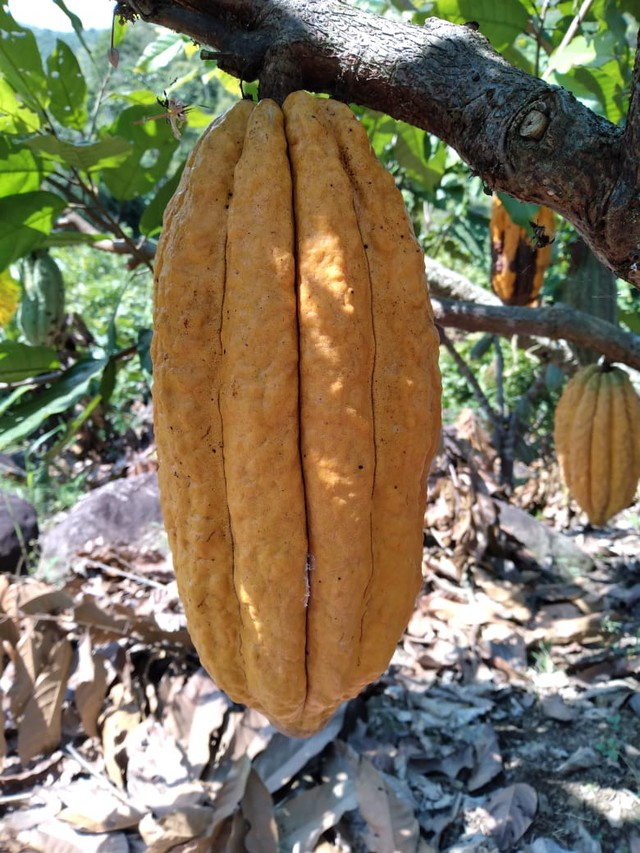Health: (140, 81, 453, 742)
